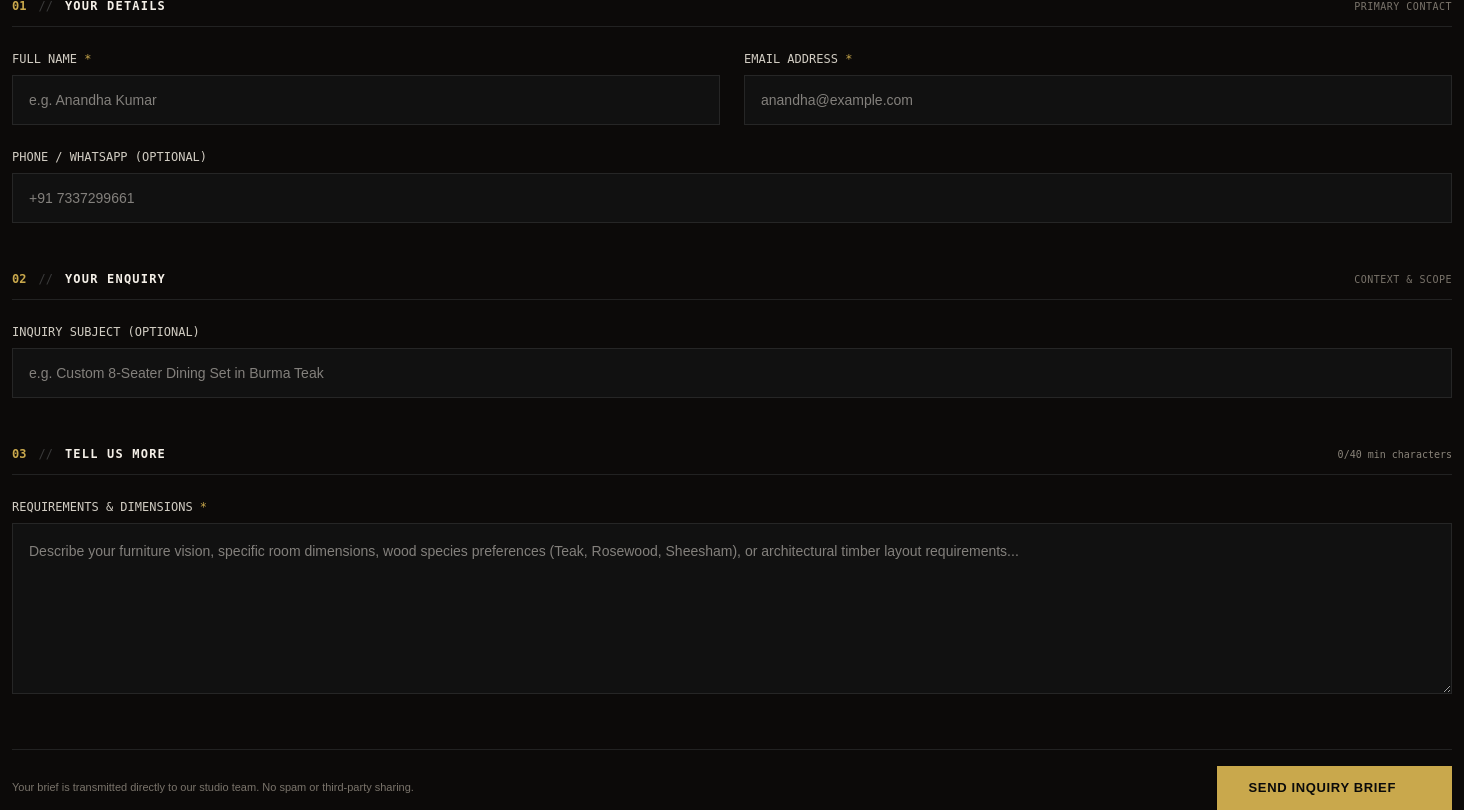
Test case: Form Accessibility & Validation Semantics › sets aria-invalid and aria-describedby error elements on validation failure
The image size is (1464, 810).
(page scrolled)
Step 1. Click the button "Send Inquiry Brief" → (1334, 788), box [1216,766,1452,809]
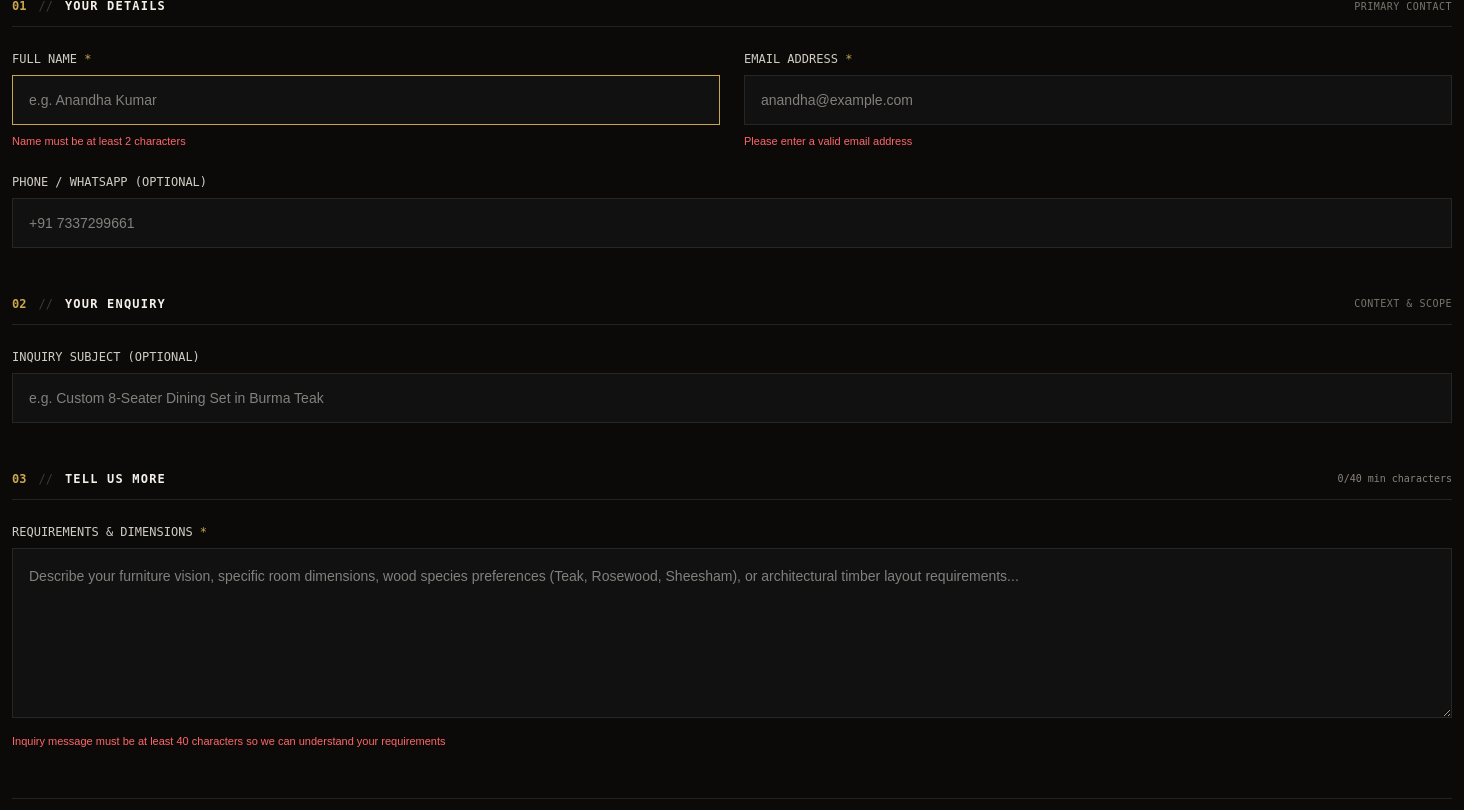
Check: the text "Name must be at least 2 characters" is shown, box [12,135,186,147]
